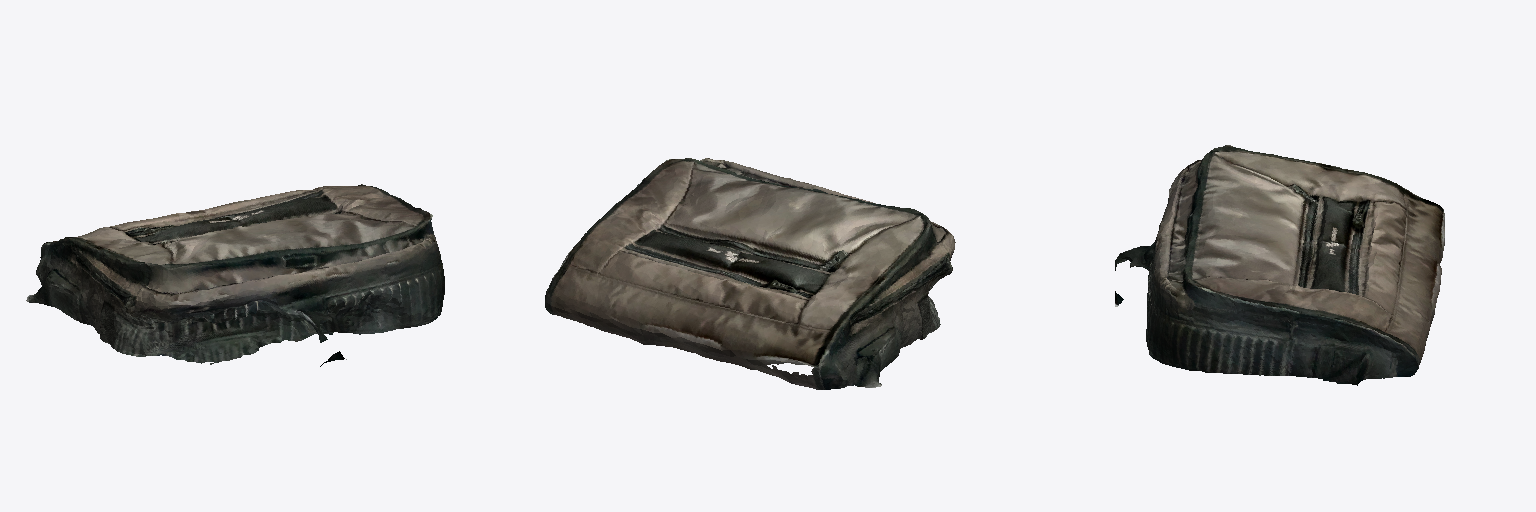
The picture shows the model from 3 angles: view 1: azimuth 30°, elevation 25°; view 2: azimuth 150°, elevation 25°; view 3: azimuth 270°, elevation 25°; orthographic projection.
Bounding box in the file's own units: 0.6744 × 0.1732 × 0.5614.
1 materials, 1 textured.